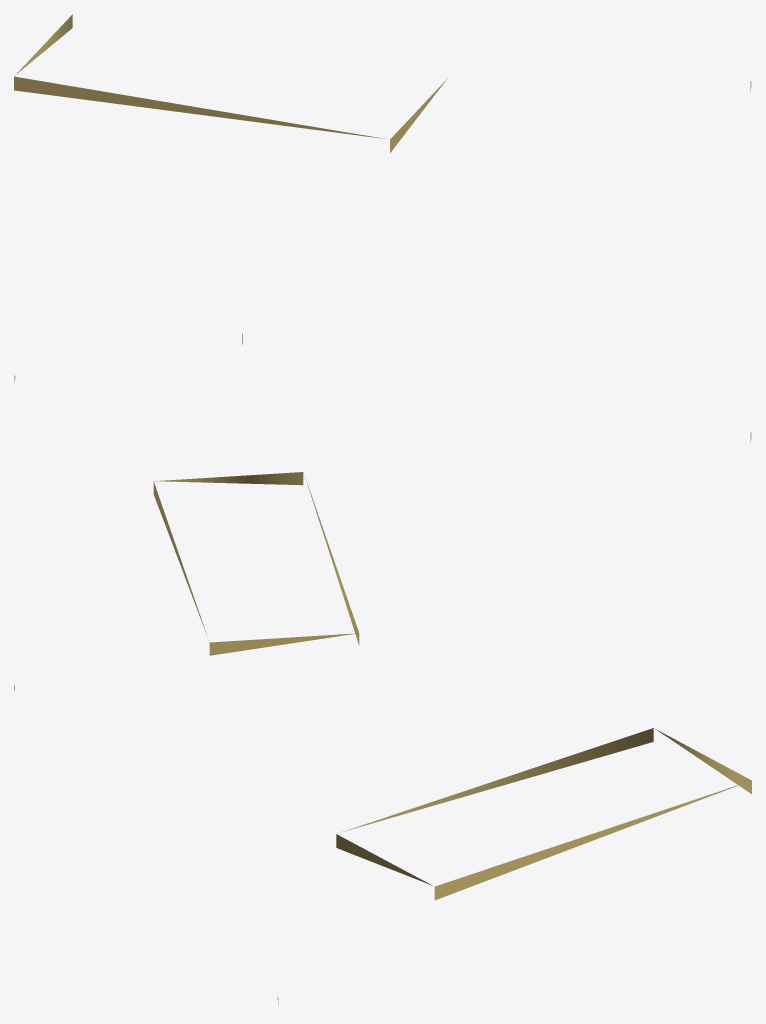
3 views of the same model, one above another, from view 1: azimuth 30°, elevation 25°; view 2: azimuth 150°, elevation 25°; view 3: azimuth 270°, elevation 25° (orthographic). The views are drawn at different scales.
Size of the model in its own units: 120 by 2.5 by 120.
